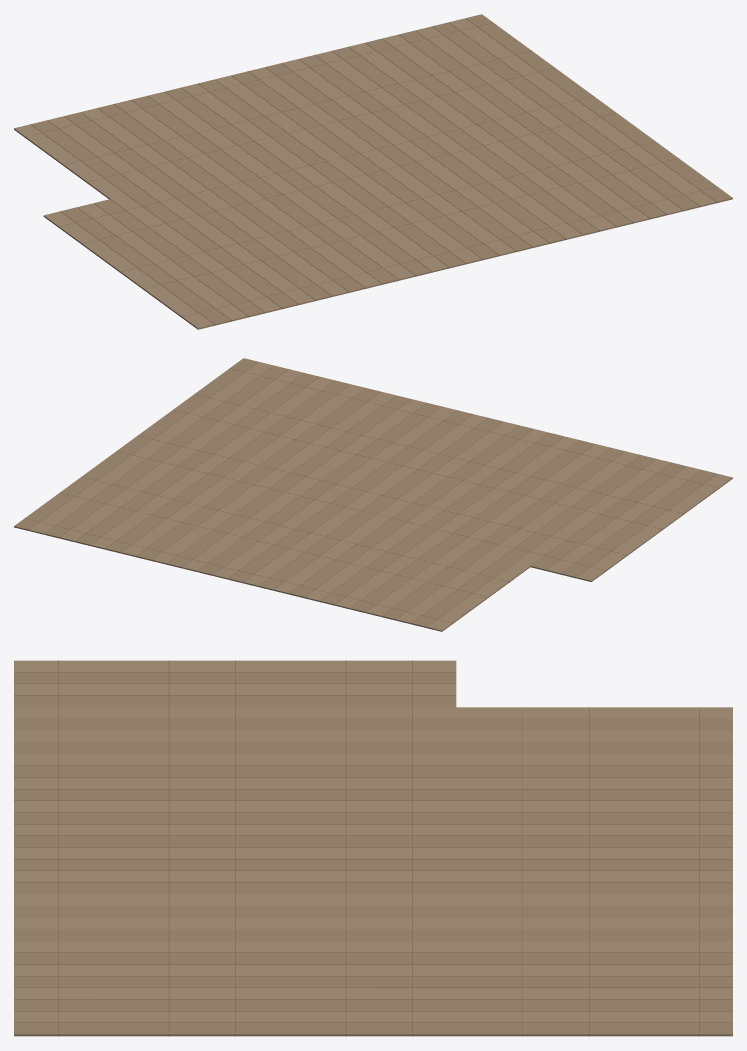
Rendered from home_floor_boards_s4__walnut.glb.
3 views of the same model, one above another, from view 1: azimuth 30°, elevation 25°; view 2: azimuth 150°, elevation 25°; view 3: azimuth 270°, elevation 25° (orthographic). The views are drawn at different scales.
Size of the model in its own units: 16 by 0.042 by 13.
